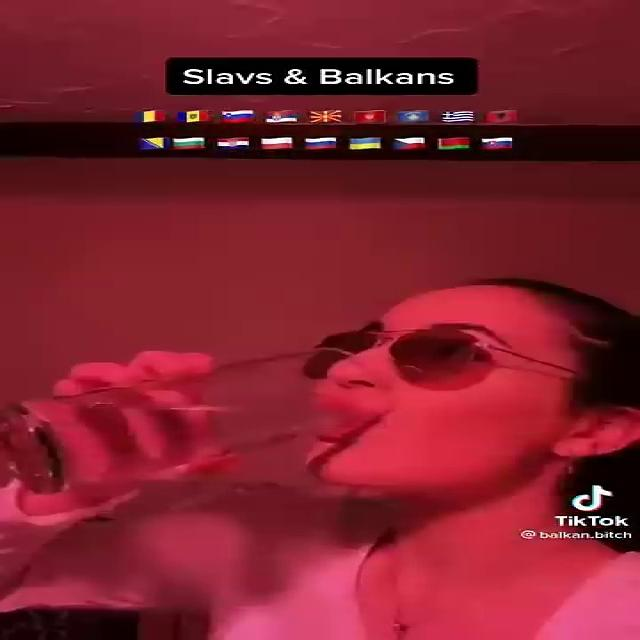Cup: (1, 352, 367, 492)
Hand: (9, 343, 228, 507)
Mouth: (302, 405, 390, 443)
